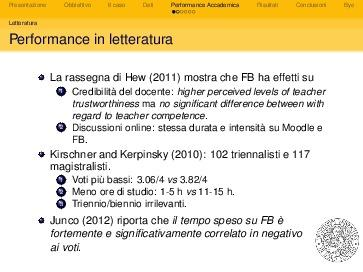paragraph: (33, 65, 346, 268)
title: (4, 26, 181, 57)
